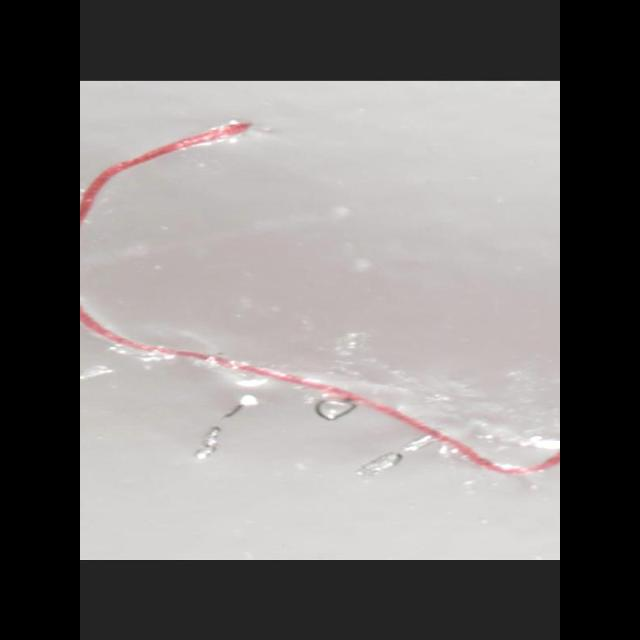Fibre: (80, 119, 560, 477)
